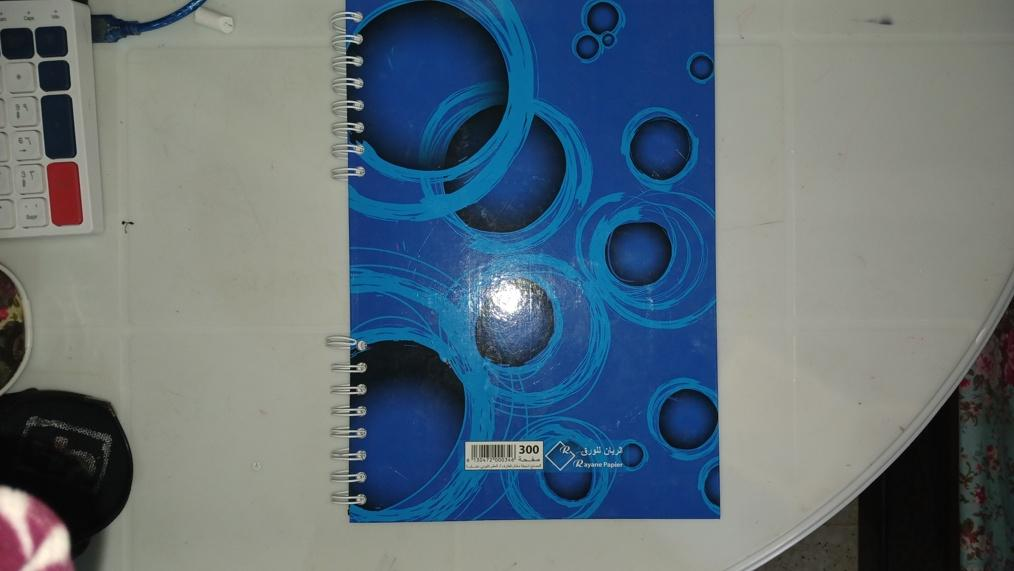notebook: (332, 1, 717, 525)
